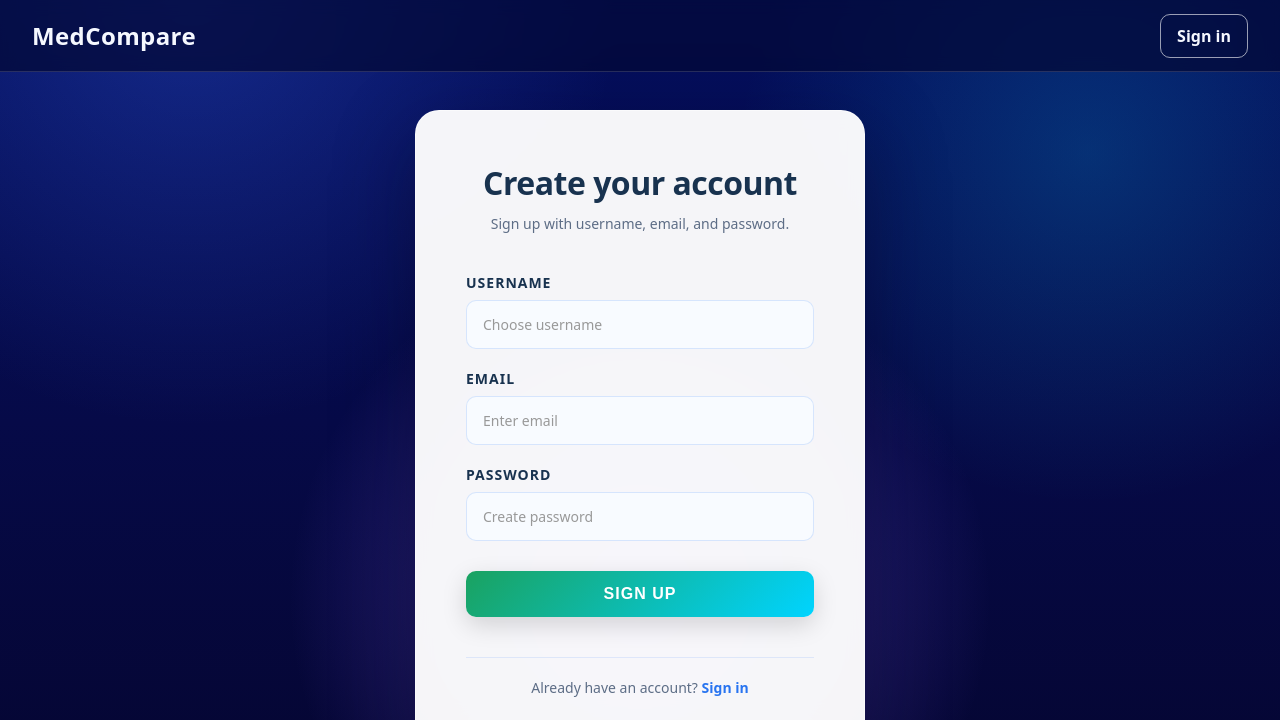
Signup › shows error when password is too short
In the field labelled "Username": (640, 324) [466,300,814,349], type "newuser"
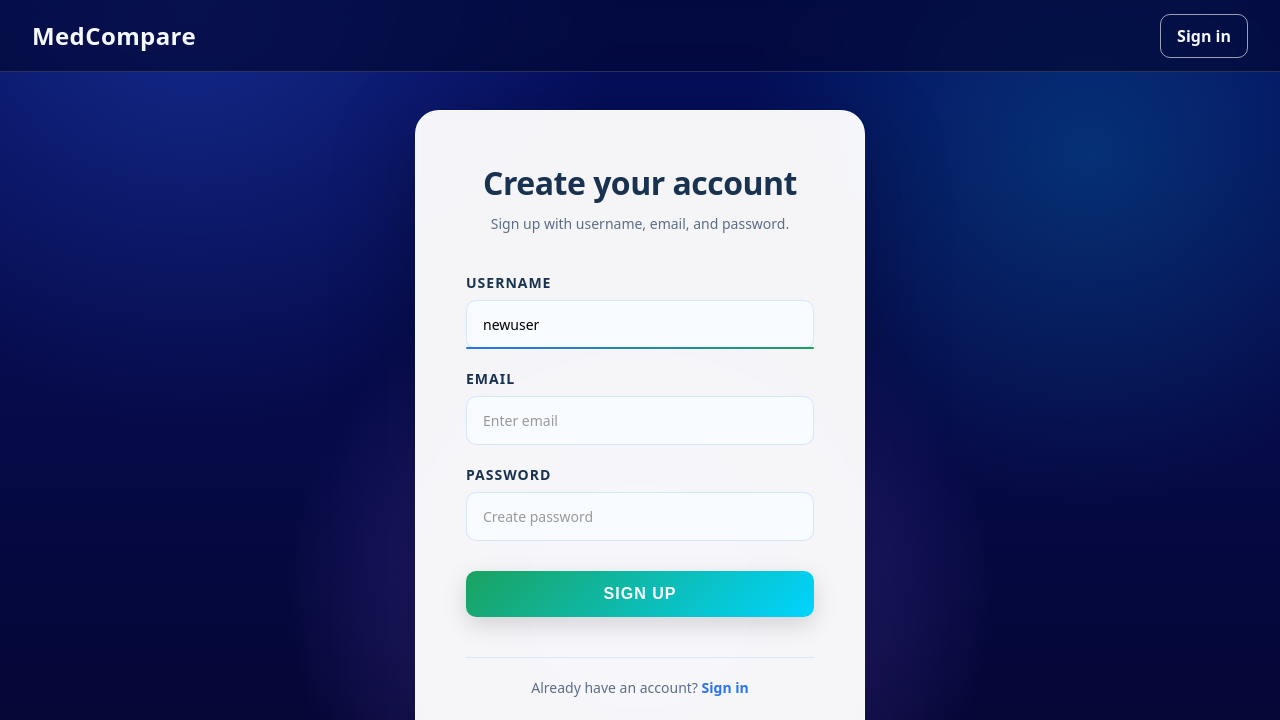
In the field labelled "Email": (640, 420) [466,396,814,445], type "newuser@example.com"
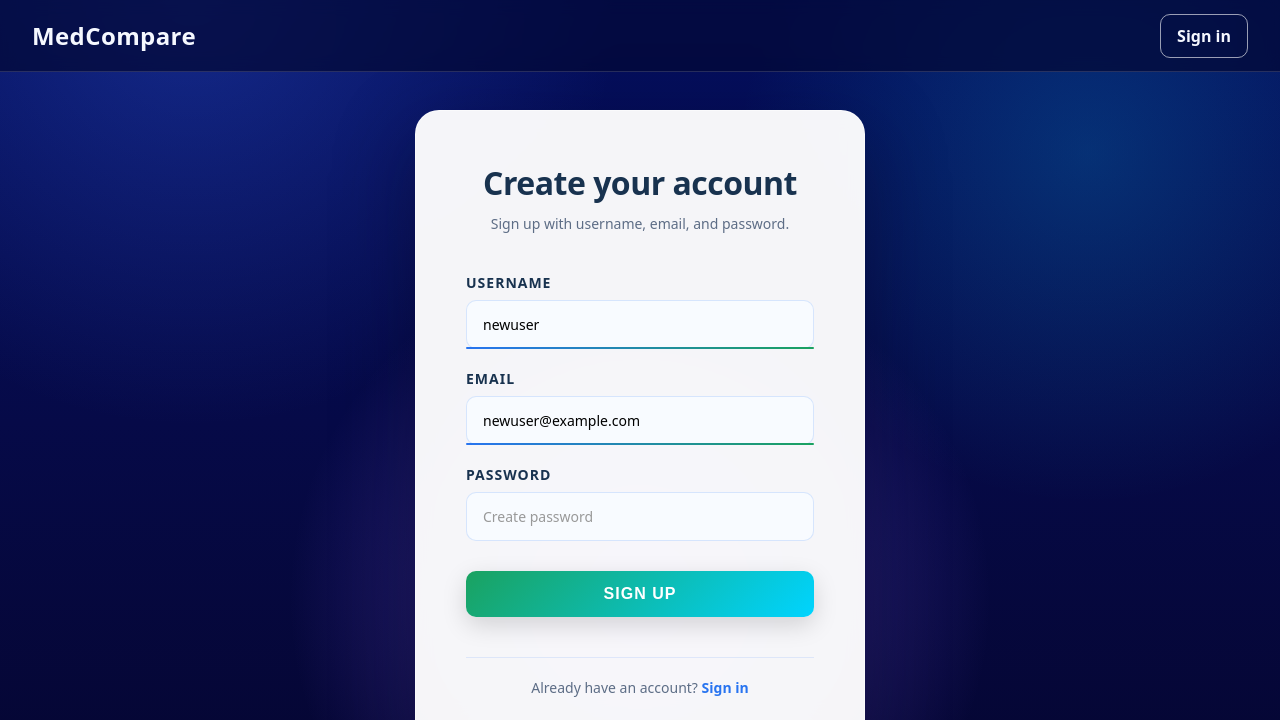
In the password field labelled "Password": (640, 516) [466,492,814,541], type "123"
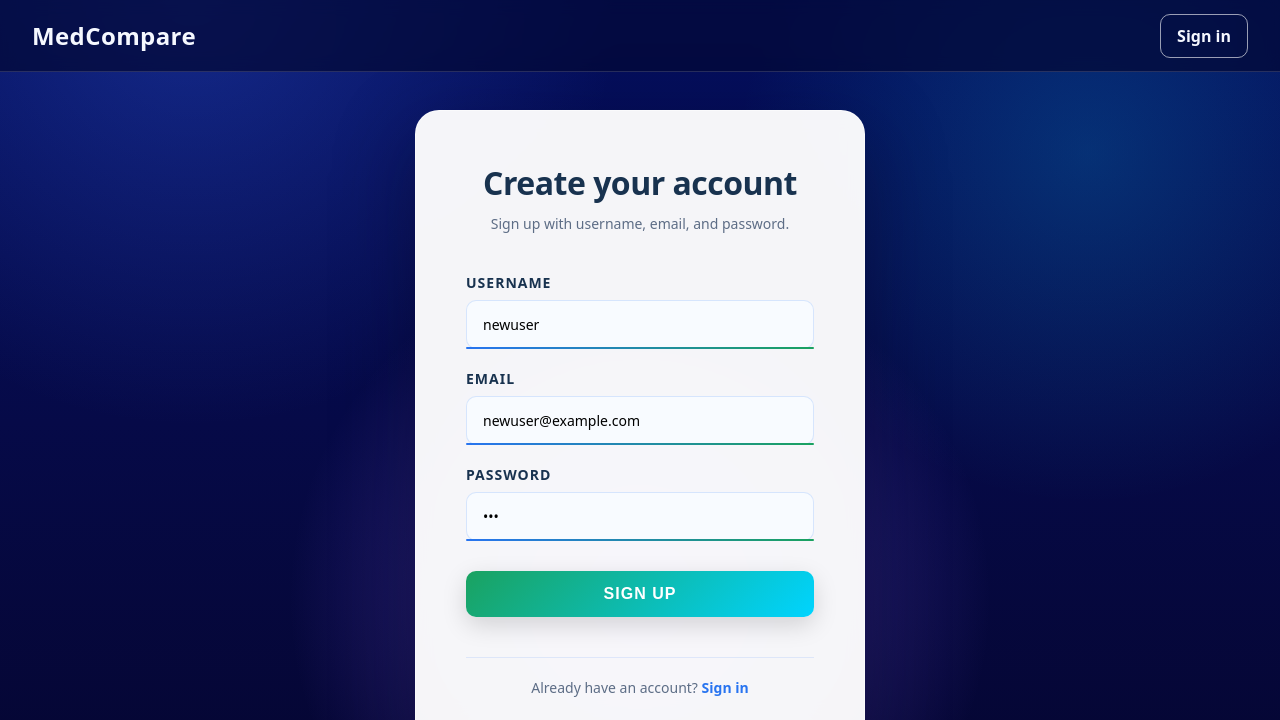
Click the button "Sign Up": (640, 594) [466,571,814,617]
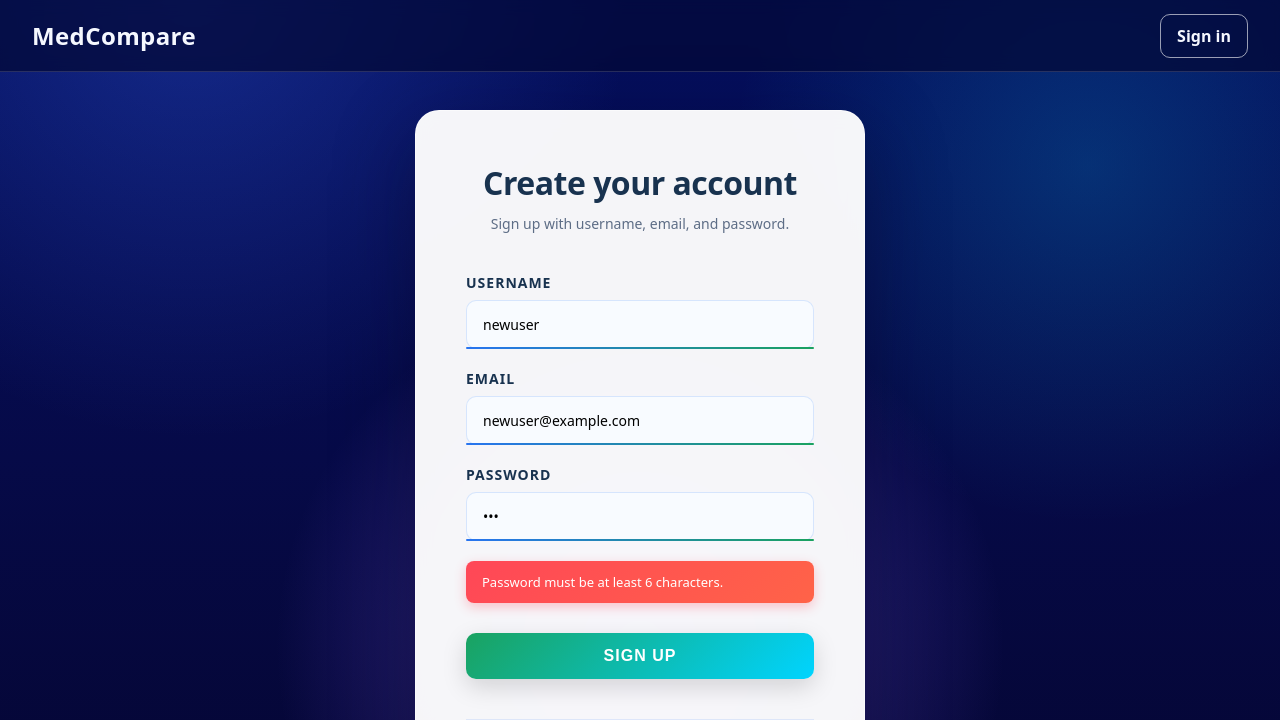
Result: the text "Password must be at least 6 characters." is shown at [466,561,814,603]
